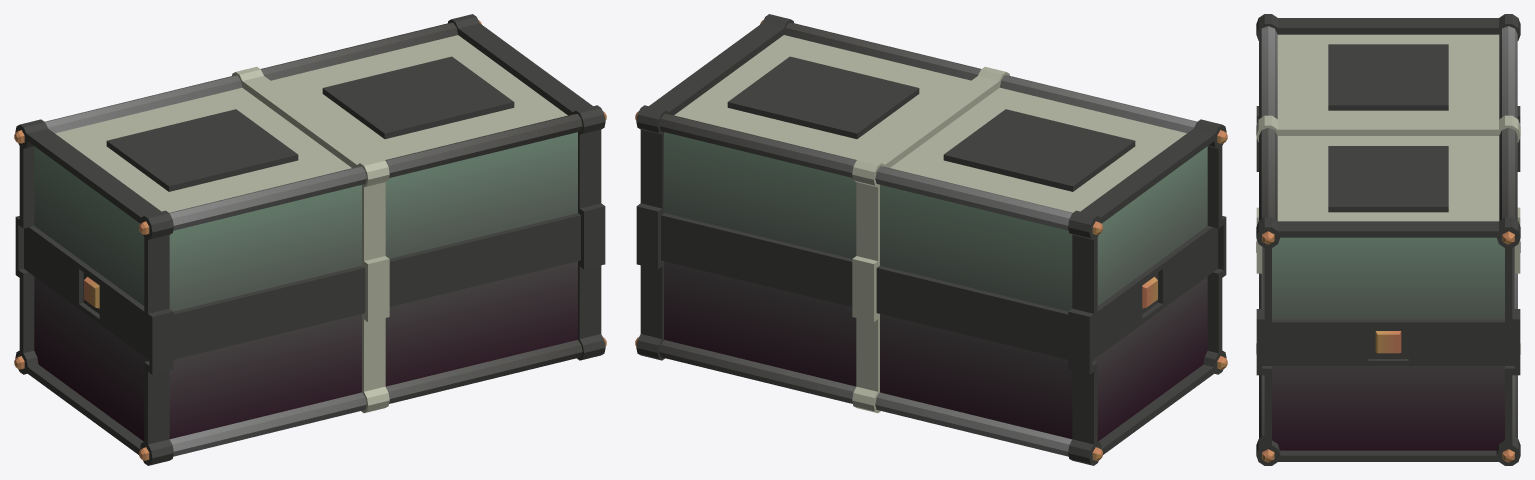
3 views of the same model, side by side, from view 1: azimuth 30°, elevation 25°; view 2: azimuth 150°, elevation 25°; view 3: azimuth 270°, elevation 25° (orthographic). The views are drawn at different scales.
Parts seen in each view (by area): view 1: pSphere3; view 2: pSphere3; view 3: pSphere3.
Boxes of the visible parts, <box> form: pSphere3: <box>14,14,606,465</box>; pSphere3: <box>635,14,1227,465</box>; pSphere3: <box>1256,14,1520,465</box>.
Size of the model in its own units: 21.6 by 10.95 by 11.
1 material, 1 textured.
